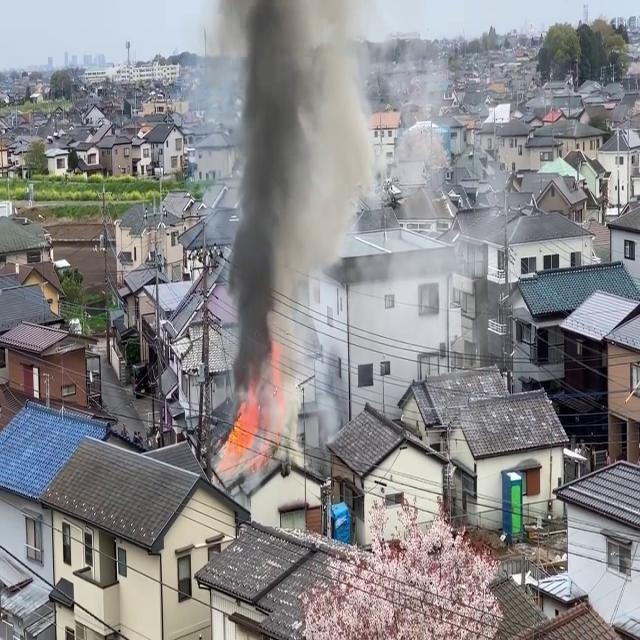Fire: (219, 394, 263, 473)
Smoke: (222, 0, 366, 440)
